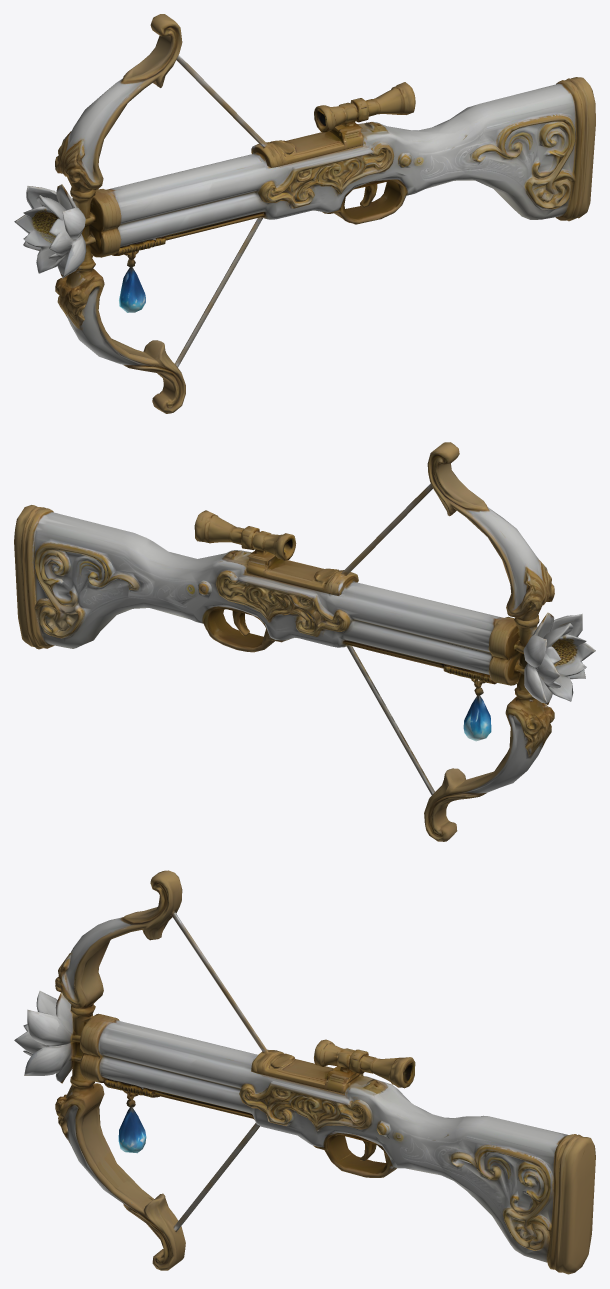
The model's file is guanyin.glb.
The picture shows the model from 3 angles, top to bottom: view 1: azimuth 30°, elevation 25°; view 2: azimuth 150°, elevation 25°; view 3: azimuth 330°, elevation 25°; orthographic projection.
Parts seen in each view (by area): view 1: convert; view 2: convert; view 3: convert.
Part boxes in pixels (left/top/right/bottom): convert: left=14, top=14, right=595, bottom=413; convert: left=14, top=442, right=595, bottom=841; convert: left=14, top=870, right=595, bottom=1274.
Size of the model in its own units: 1.16 by 0.7906 by 0.1451.
Materials: 1 (1 with a texture image).
